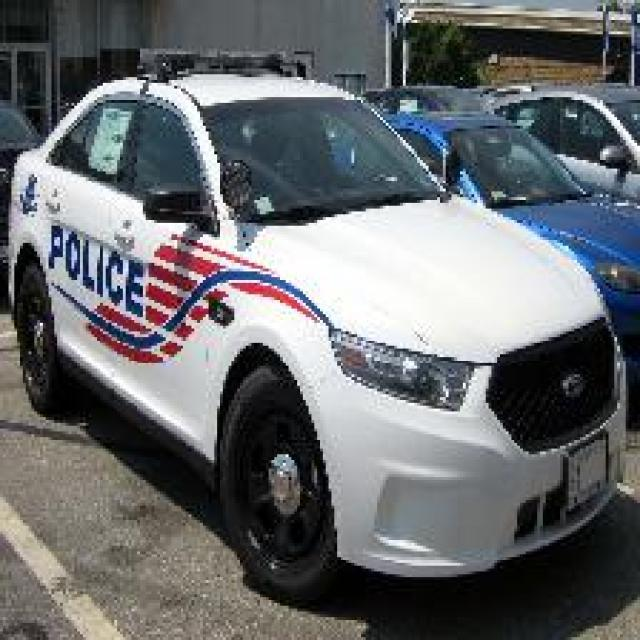emergency: (4, 68, 632, 608)
